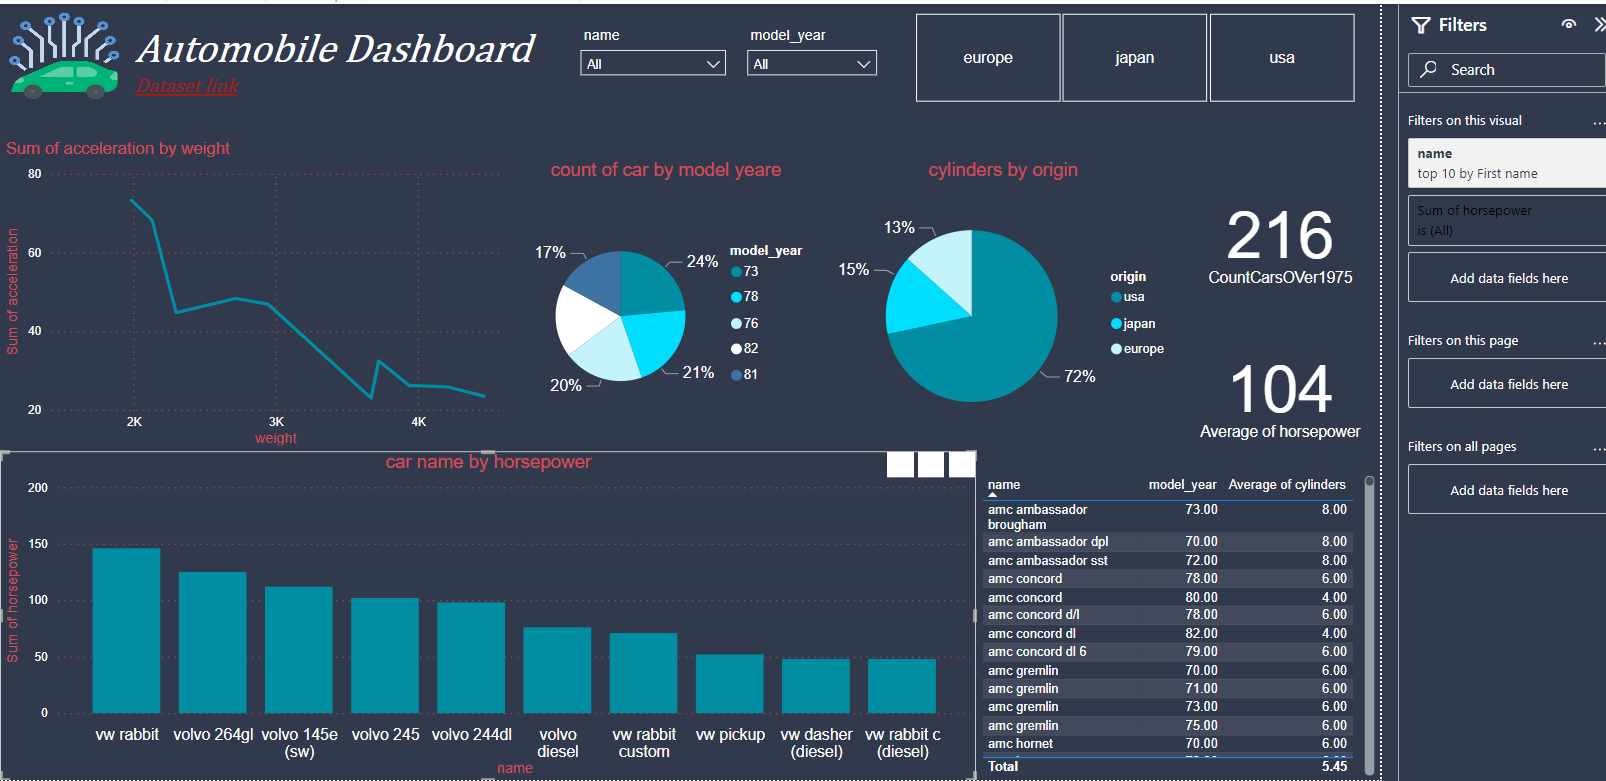

This screenshot's page, from the dashboard's own definition file:
{"tool":"powerbi","page":{"name":"Overview","canvas":[1280,720],"ordinal":0},"visuals":[{"type":"textbox","box":[119.4,16.5,408.9,91.9],"z":0},{"type":"image","box":[0,0,119.4,97.4],"z":1000},{"type":"clusteredColumnChart","title":"car name by horsepower","fields":{"Category":["Car_Info_Data.name"],"Y":["Sum(Car_Info_Data.horsepower)"]},"box":[0,414.4,905.7,306],"z":2000},{"type":"pieChart","title":"cylinders by origin","fields":{"Category":["Car_Info_Data.origin"],"Y":["Sum(Car_Info_Data.cylinders)"]},"box":[767.1,144.1,326.6,270.3],"z":3000},{"type":"pieChart","title":"count of car by model yeare","fields":{"Category":["Car_Info_Data.model_year"],"Y":["CountNonNull(Car_Info_Data.name)"]},"box":[467.9,144.1,299.1,270.3],"z":4000},{"type":"slicer","fields":{"Values":["Car_Info_Data.origin"]},"box":[813.7,0,466.6,97.4],"z":5000},{"type":"slicer","fields":{"Values":["Car_Info_Data.name"]},"box":[528.3,16.5,155.1,65.9],"z":6000},{"type":"slicer","fields":{"Values":["Car_Info_Data.model_year"]},"box":[683.4,16.5,140,65.9],"z":7000},{"type":"card","fields":{"Values":["Calculations.CountCarsOver1990"]},"box":[1093.7,144.1,186.6,144.1],"z":8000},{"type":"card","fields":{"Values":["Avg(Car_Info_Data.horsepower)"]},"box":[1093.7,288.2,186.6,144.1],"z":9000},{"type":"tableEx","fields":{"Values":["Car_Info_Data.name","Car_Info_Data.model_year","Avg(Car_Info_Data.cylinders)"]},"box":[905.7,432.2,374.6,288.2],"z":10000},{"type":"lineChart","fields":{"Y":["Sum(Car_Info_Data.acceleration)"],"Category":["Car_Info_Data.weight"]},"box":[0,124.9,467.9,289.5],"z":11000}]}

Visuals, with their boxes on the page's 1280x720 design canvas (x1, y1, x2, y2). These are canvas units, not pixel positions in the 1606x781 screenshot, which may show the page scaled, cropped or inside an application window:
textbox: bbox=[119, 16, 528, 108]
image: bbox=[0, 0, 119, 97]
"car name by horsepower" clusteredColumnChart: bbox=[0, 414, 906, 720]
"cylinders by origin" pieChart: bbox=[767, 144, 1094, 414]
"count of car by model yeare" pieChart: bbox=[468, 144, 767, 414]
slicer - Car_Info_Data.origin: bbox=[814, 0, 1280, 97]
slicer - Car_Info_Data.name: bbox=[528, 16, 683, 82]
slicer - Car_Info_Data.model_year: bbox=[683, 16, 823, 82]
card - Calculations.CountCarsOver1990: bbox=[1094, 144, 1280, 288]
card - Avg(Car_Info_Data.horsepower): bbox=[1094, 288, 1280, 432]
tableEx - Car_Info_Data.name x Car_Info_Data.model_year: bbox=[906, 432, 1280, 720]
lineChart - Sum(Car_Info_Data.acceleration) x Car_Info_Data.weight: bbox=[0, 125, 468, 414]
